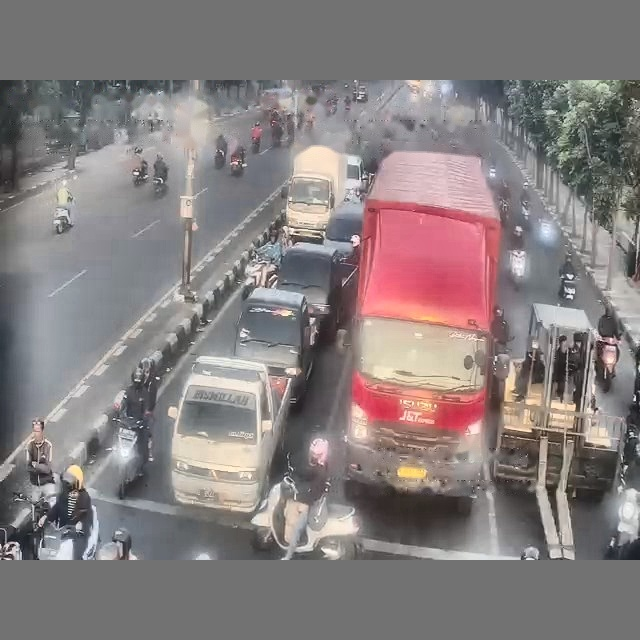Motor: (295, 483, 360, 559), (38, 505, 98, 559), (113, 417, 147, 499), (13, 492, 55, 558), (606, 488, 639, 558), (241, 250, 270, 299), (595, 336, 618, 392), (509, 250, 525, 287), (53, 207, 71, 234), (561, 273, 576, 301), (230, 155, 244, 176), (132, 168, 148, 186), (153, 176, 166, 197), (499, 198, 509, 225), (214, 148, 225, 169), (251, 137, 260, 153)
Truk: (345, 152, 500, 514), (168, 356, 290, 512), (281, 145, 346, 241)
